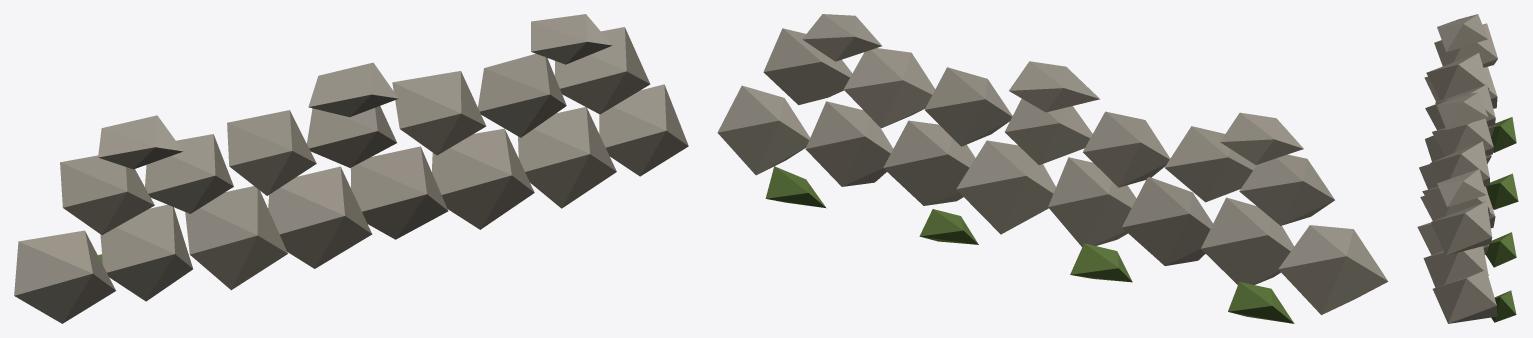
The model's file is lowwall.glb.
The picture shows the model from 3 angles, left to right: view 1: azimuth 30°, elevation 25°; view 2: azimuth 150°, elevation 25°; view 3: azimuth 270°, elevation 25°; orthographic projection. The views are drawn at different scales.
Visible parts, largest first — view 1: base; view 2: base; view 3: base.
Part boxes in pixels (box(x1,y1,x2,y2)): base: box(14, 14, 688, 323); base: box(717, 14, 1388, 323); base: box(1417, 14, 1518, 323).
Bounding box in the file's own units: 0.9293 × 0.2495 × 0.1644.
